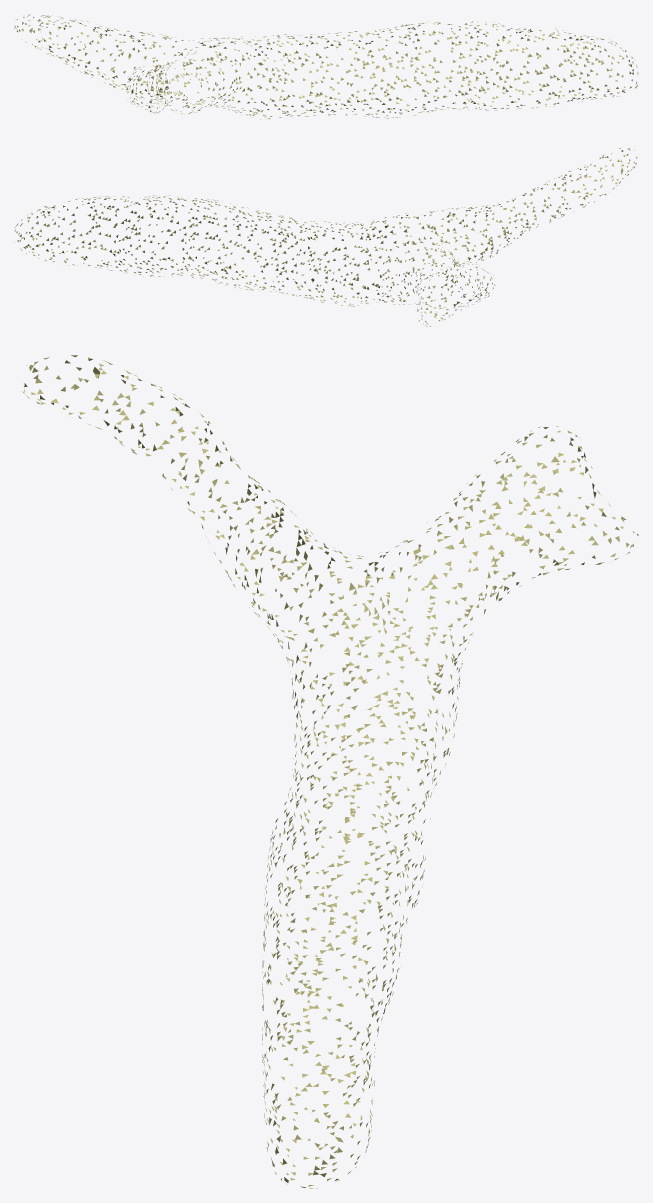
The model's file is morph_009.glb.
The picture shows the model from 3 angles, top to bottom: view 1: azimuth 30°, elevation 25°; view 2: azimuth 150°, elevation 25°; view 3: azimuth 270°, elevation 25°; orthographic projection. The views are drawn at different scales.
Size of the model in its own units: 125 by 40.64 by 65.58.
